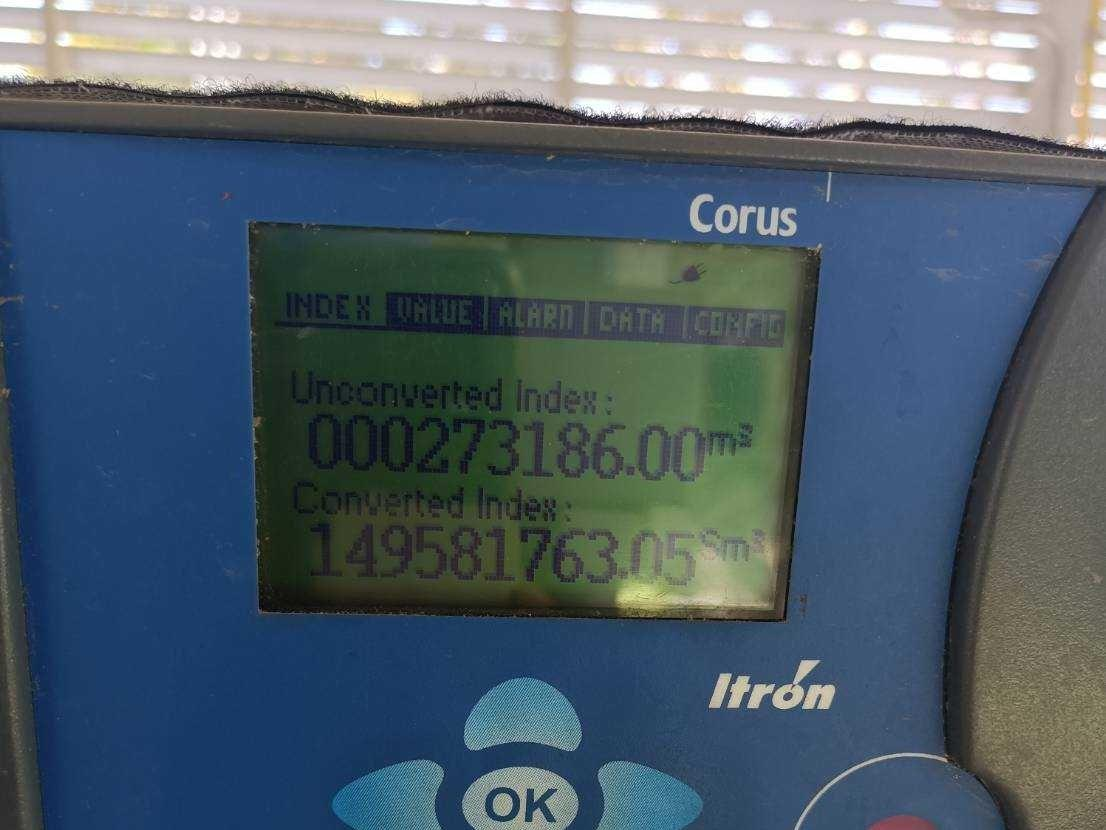digital_screen: (241, 222, 822, 620)
